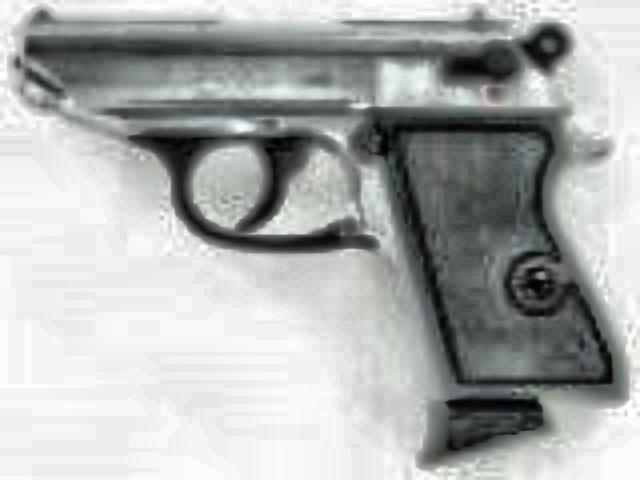pistol: (16, 0, 624, 452)
